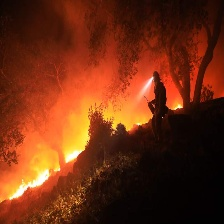fire: (4, 142, 83, 204), (133, 119, 151, 126), (174, 100, 182, 111)
smoke: (6, 8, 126, 144)
